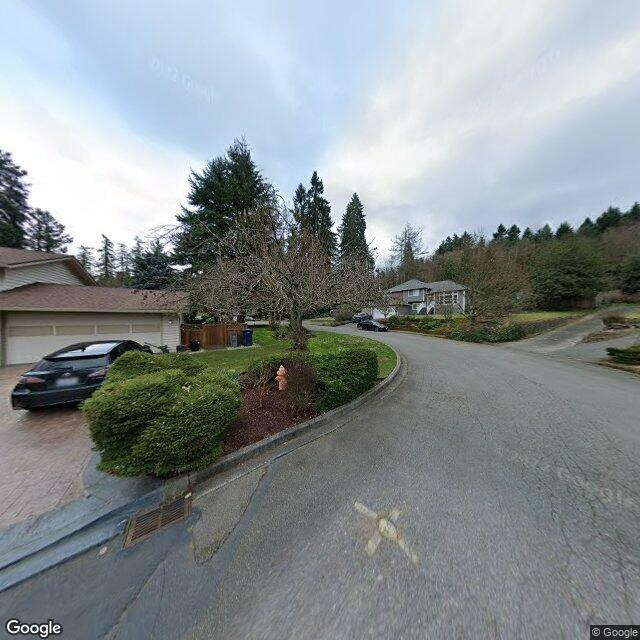hydrant: (269, 359, 289, 393)
